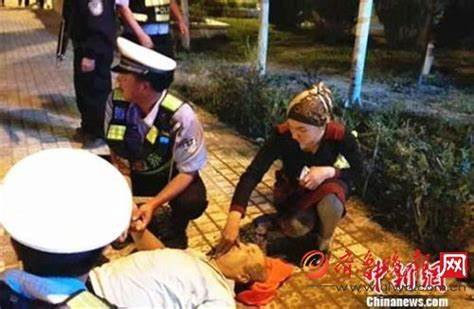fall: (27, 233, 293, 308)
